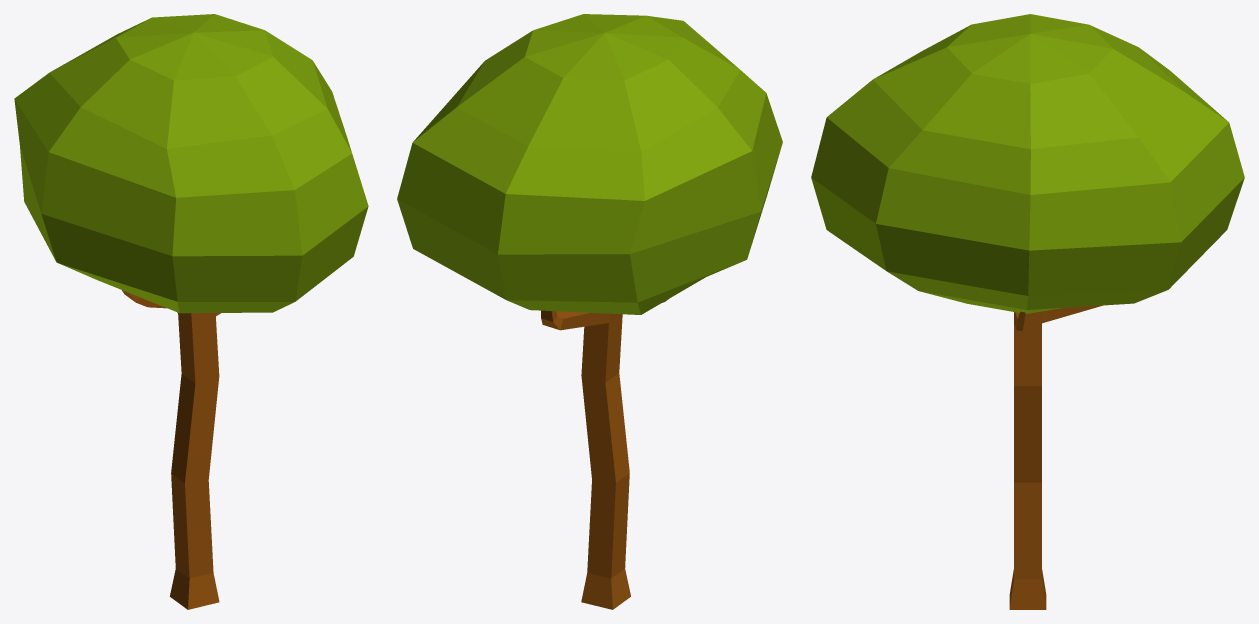
Rendered from tree_2.fbx.
3 renders of one model, left to right at view 1: azimuth 30°, elevation 25°; view 2: azimuth 150°, elevation 25°; view 3: azimuth 270°, elevation 25°, orthographic.
Visible parts, largest first — view 1: tree_2; view 2: tree_2; view 3: tree_2.
Part boxes in pixels (x1=…): tree_2: x1=14, y1=14, x2=368, y2=609; tree_2: x1=397, y1=14, x2=782, y2=609; tree_2: x1=811, y1=14, x2=1244, y2=609.
Bounding box in the file's own units: 1121 × 1974 × 1365.
